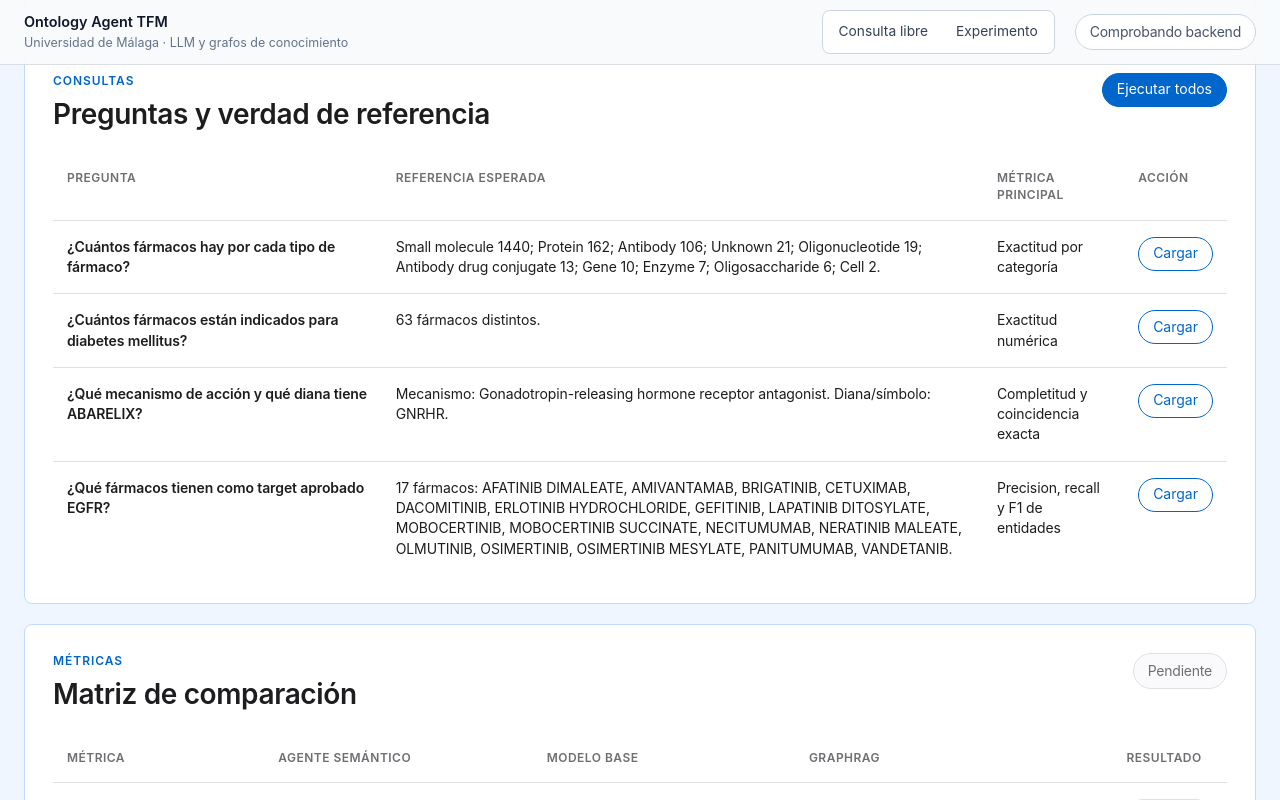
it: OntologyConsole › runs an experiment when loading a question
The image size is (1280, 800).
(page scrolled)
Click the button "Cargar" next to "Completitud y coincidencia exacta": coordinates (1176, 401) x1=1138 y1=384 x2=1213 y2=418
(page scrolled)
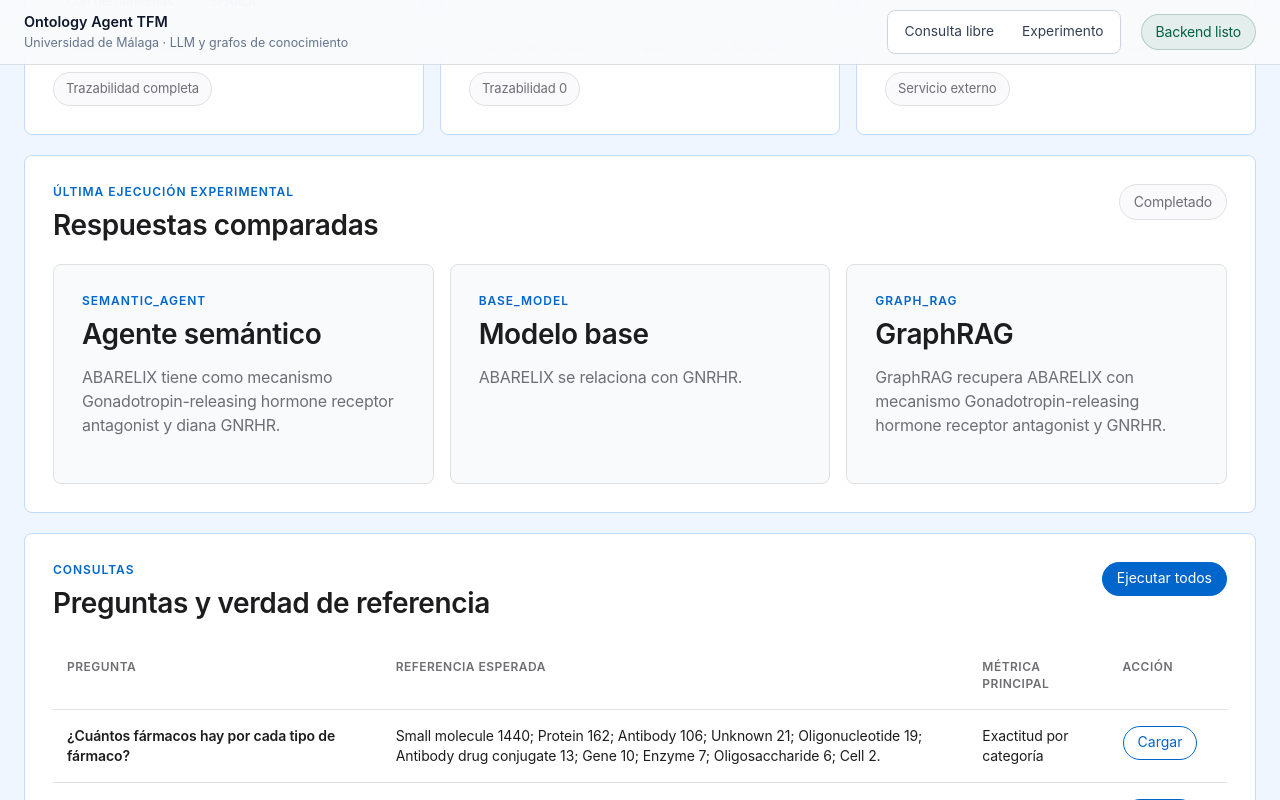
Expected: the text "ABARELIX se relaciona con GNRHR." is shown, x1=479 y1=367 x2=742 y2=387
Expected: the text "GraphRAG recupera ABARELIX con mecanismo Gonadotropin-releasing hormone receptor antagonist y GNRHR." is shown, x1=875 y1=367 x2=1166 y2=435
